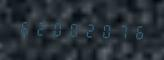seven: (113, 21, 128, 41)
six: (17, 17, 32, 38), (129, 21, 144, 42)
two: (81, 19, 96, 40), (33, 18, 48, 38)
zero: (49, 18, 64, 39), (97, 20, 112, 41), (65, 19, 80, 39)
